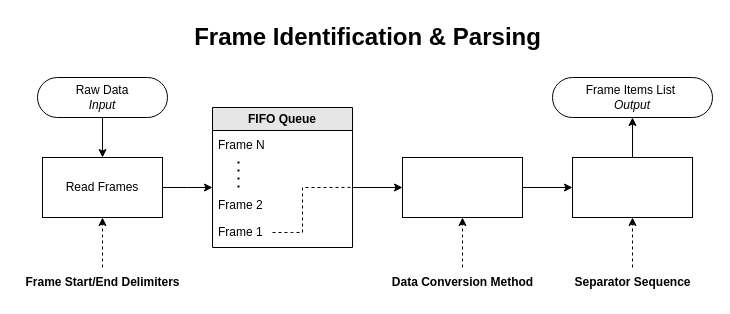
Some shapes in this 730 by 314 pixel diagram are drawn without their labels. The shapes that lost their labels are listed below. From the top down, each one's box as (x1, y1, x2, y2) in pixels, then its label:
(402, 156, 522, 218): Binary Data to String Conversion
(572, 156, 692, 218): Frame Parser Function
